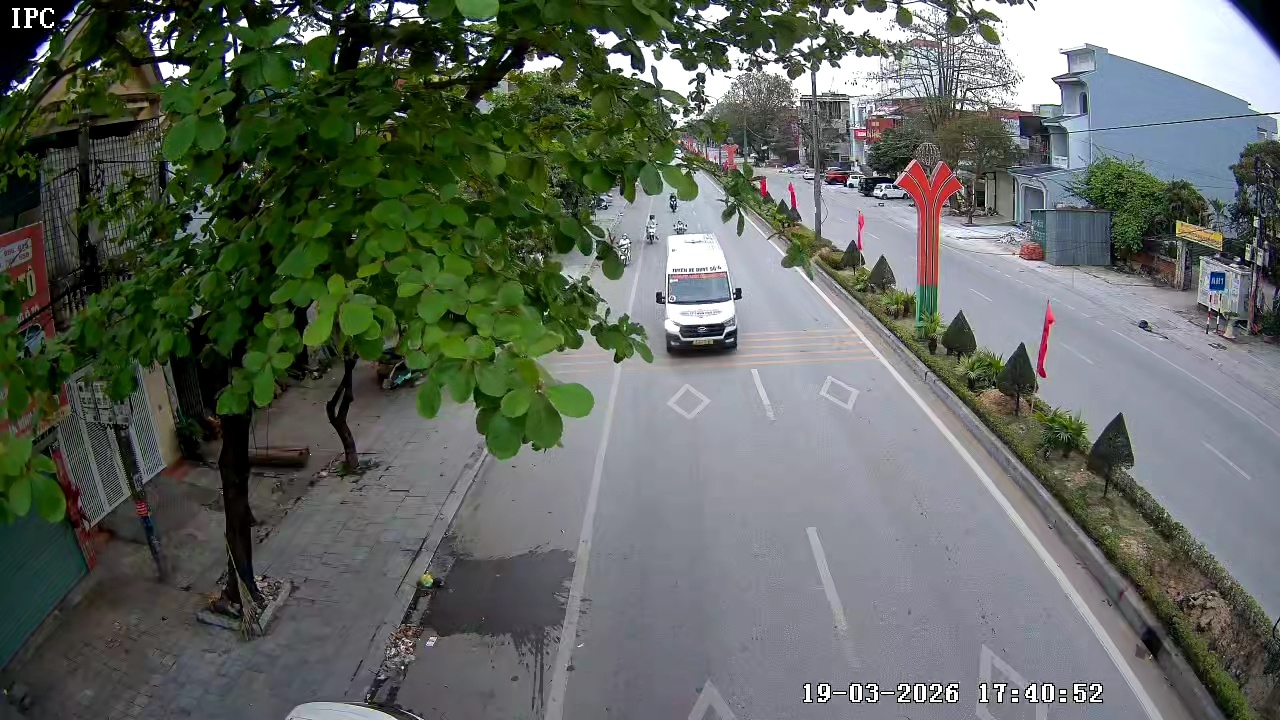bus: (655, 223, 743, 355)
motorbike: (616, 217, 634, 265), (643, 211, 660, 245)
